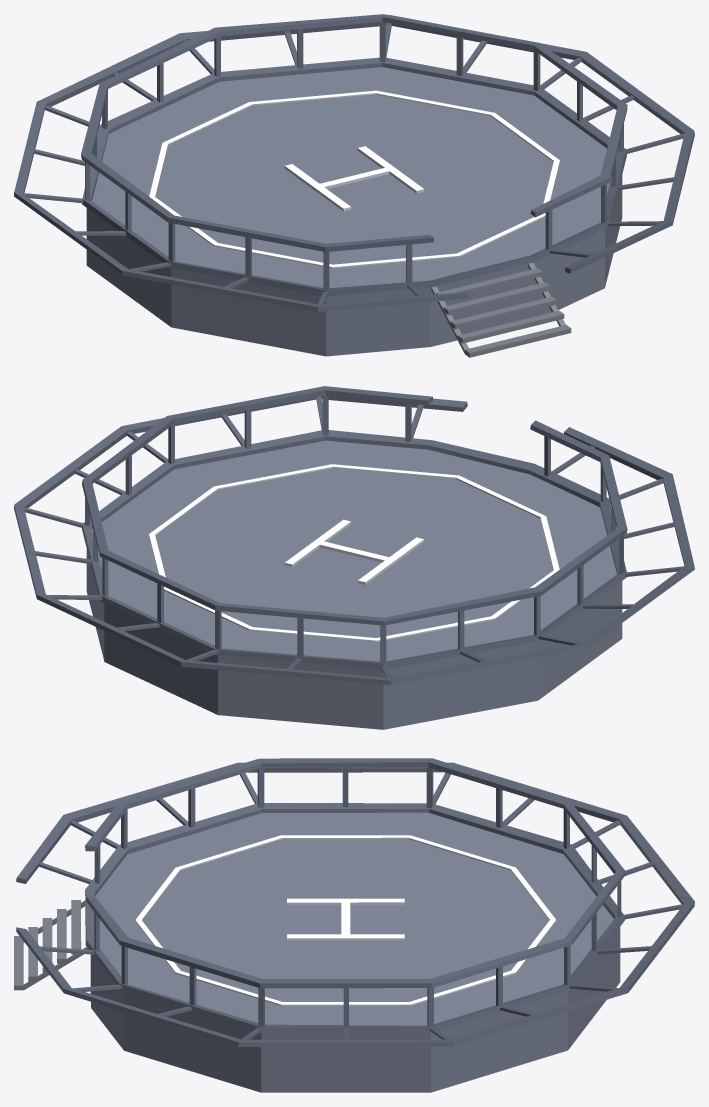
The model's file is Helipad.glb.
3 views of the same model, one above another, from view 1: azimuth 30°, elevation 25°; view 2: azimuth 150°, elevation 25°; view 3: azimuth 270°, elevation 25° (orthographic).
Visible parts, largest first — view 1: Helipad; view 2: Helipad; view 3: Helipad.
Boxes of the visible parts, left/top/right/bottom form: Helipad: left=14, top=14, right=694, bottom=357; Helipad: left=14, top=386, right=694, bottom=729; Helipad: left=14, top=758, right=694, bottom=1092.
Size of what is drawn, in the model's own units: 19.23 by 3.58 by 19.73.
Materials: 2 (2 with a texture image).
